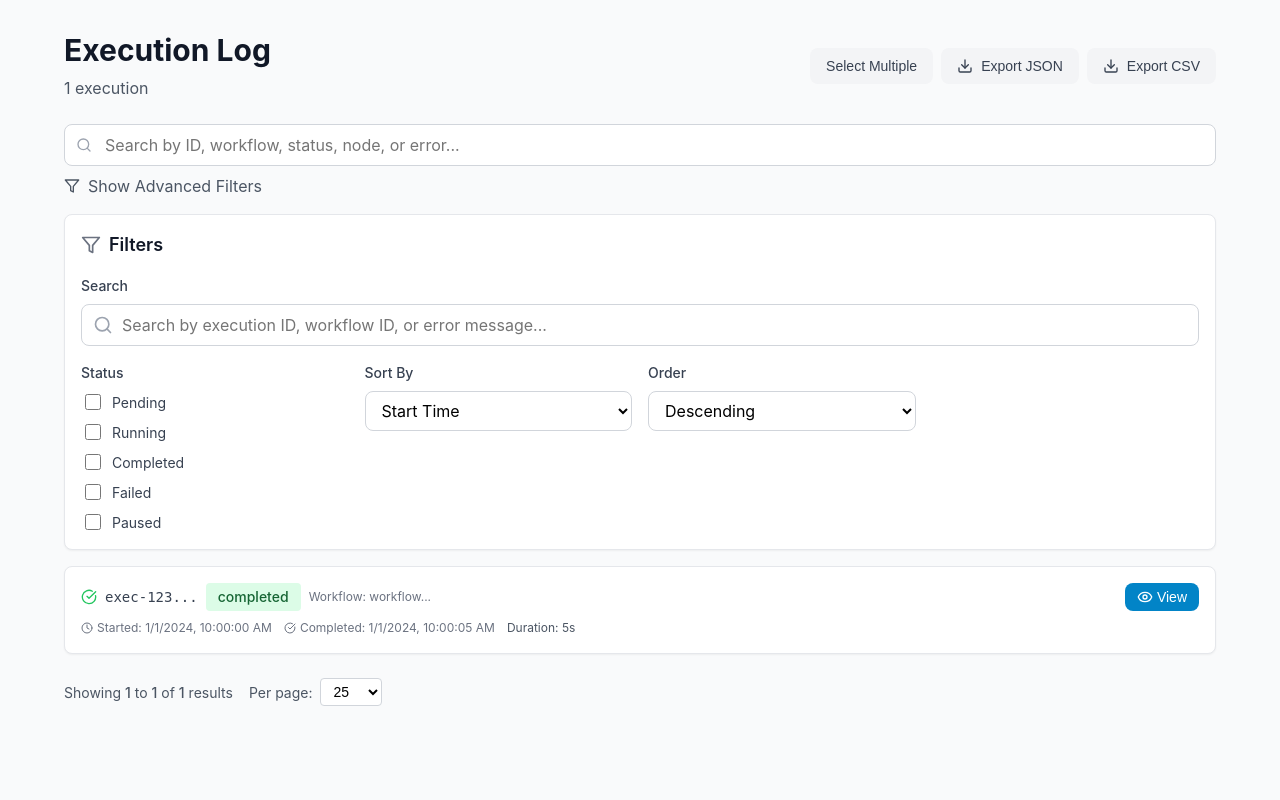
LogPage › should open details modal when execution item is clicked
Click the element with test id "execution-list-item".
click(640, 610)  # box [64,566,1216,654]
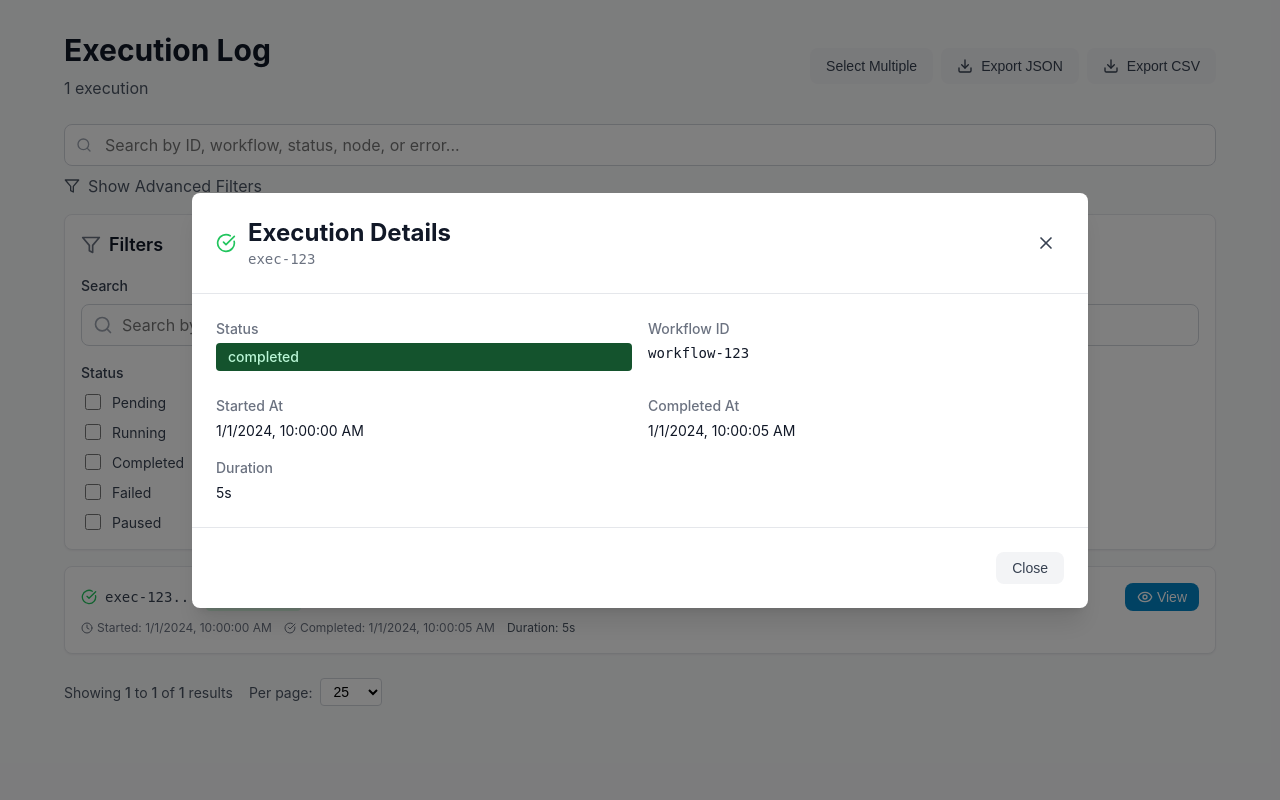
Now the heading "Execution Details" is shown, box [248,216,451,248]
